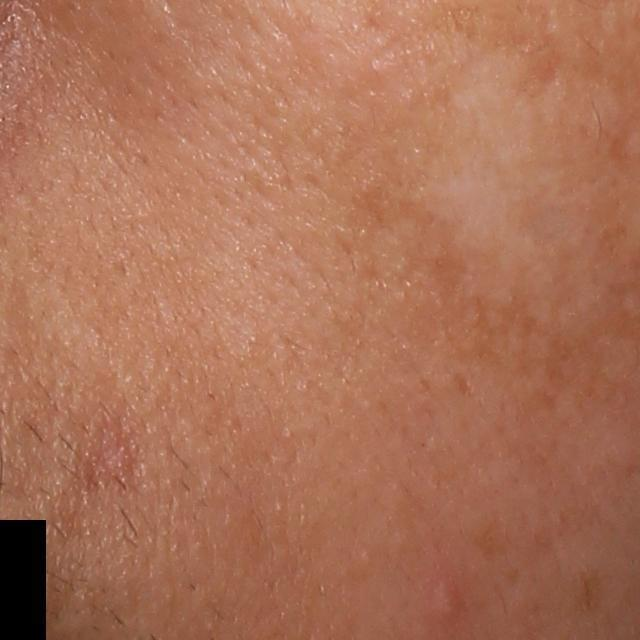papule: (428, 577, 467, 619)
